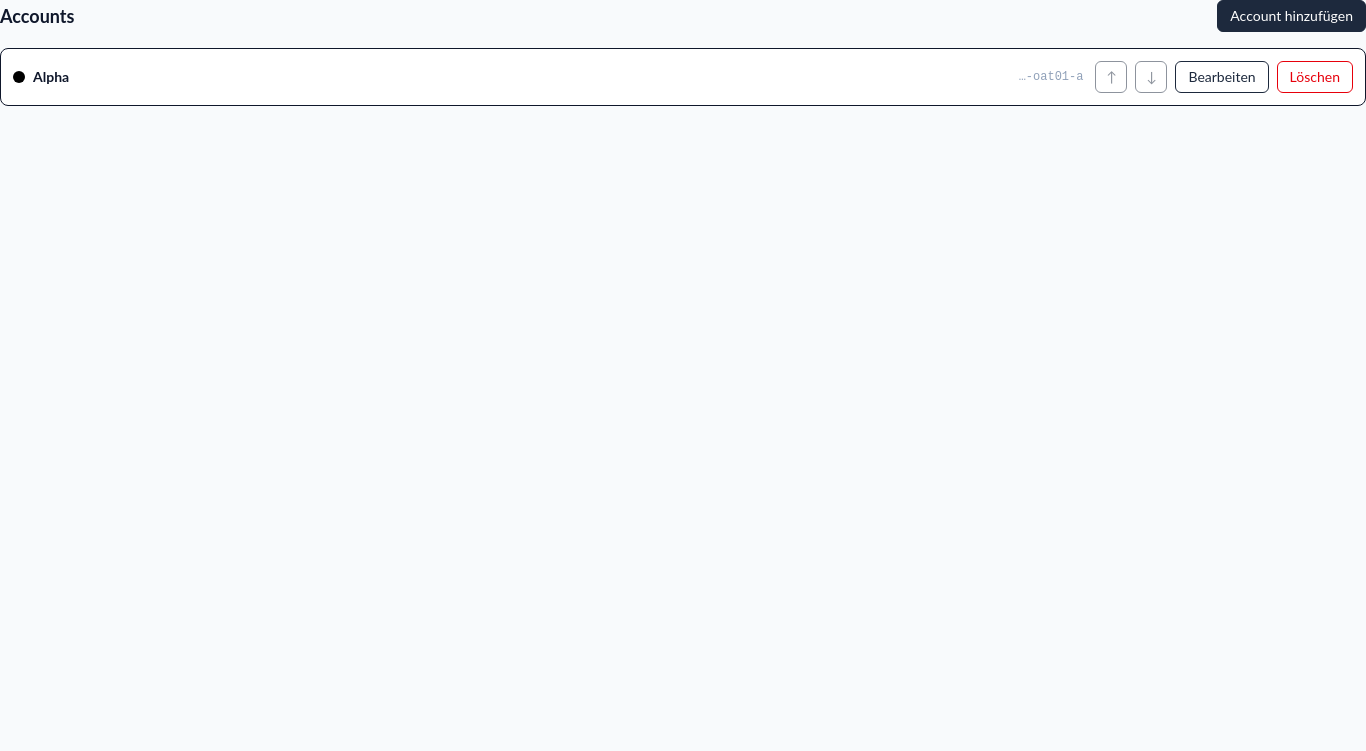
Test: AccountsView › opens an account for editing by its name and saves the change
Click the button with class "font-bold" showing "Alpha" at x=51, y=76, box [33,67,1011,87]
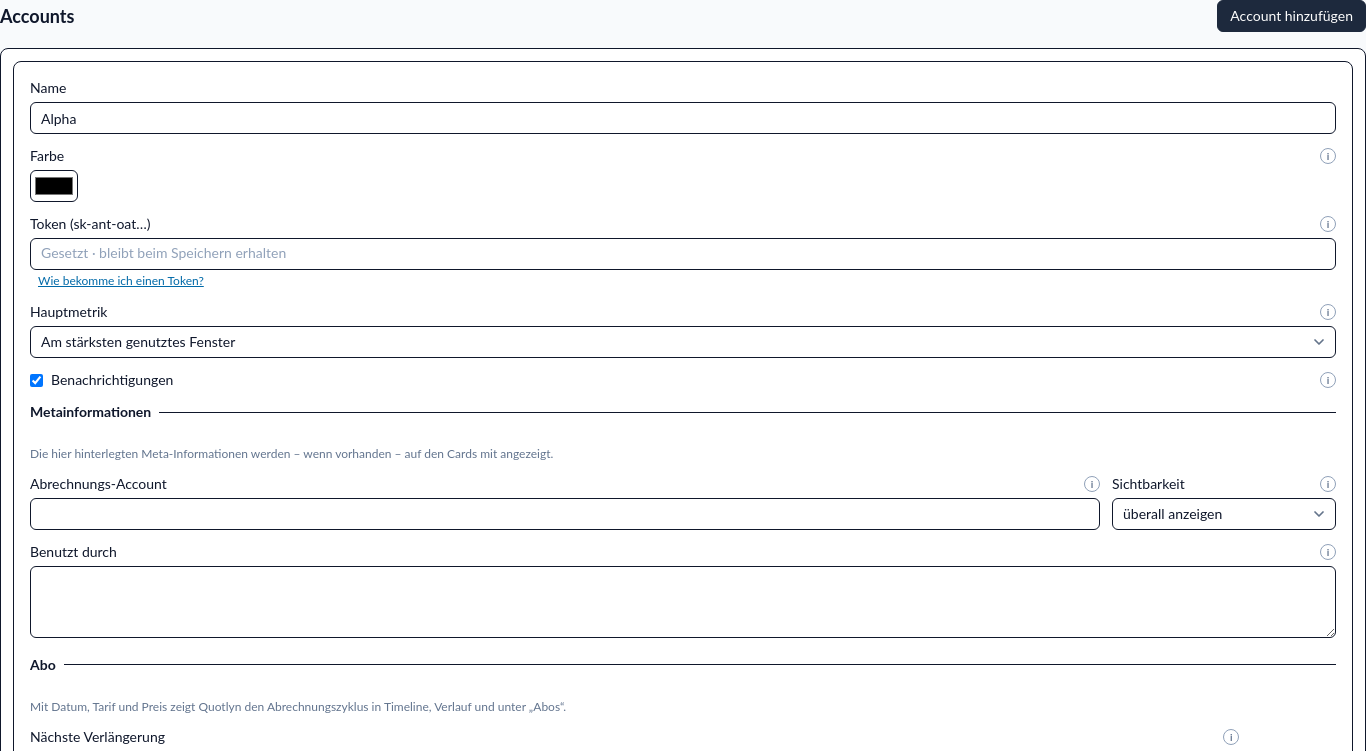
Replace the text in the field labelled "Name" with "Beta" at x=683, y=118, box [30,102,1336,134]
(page scrolled)
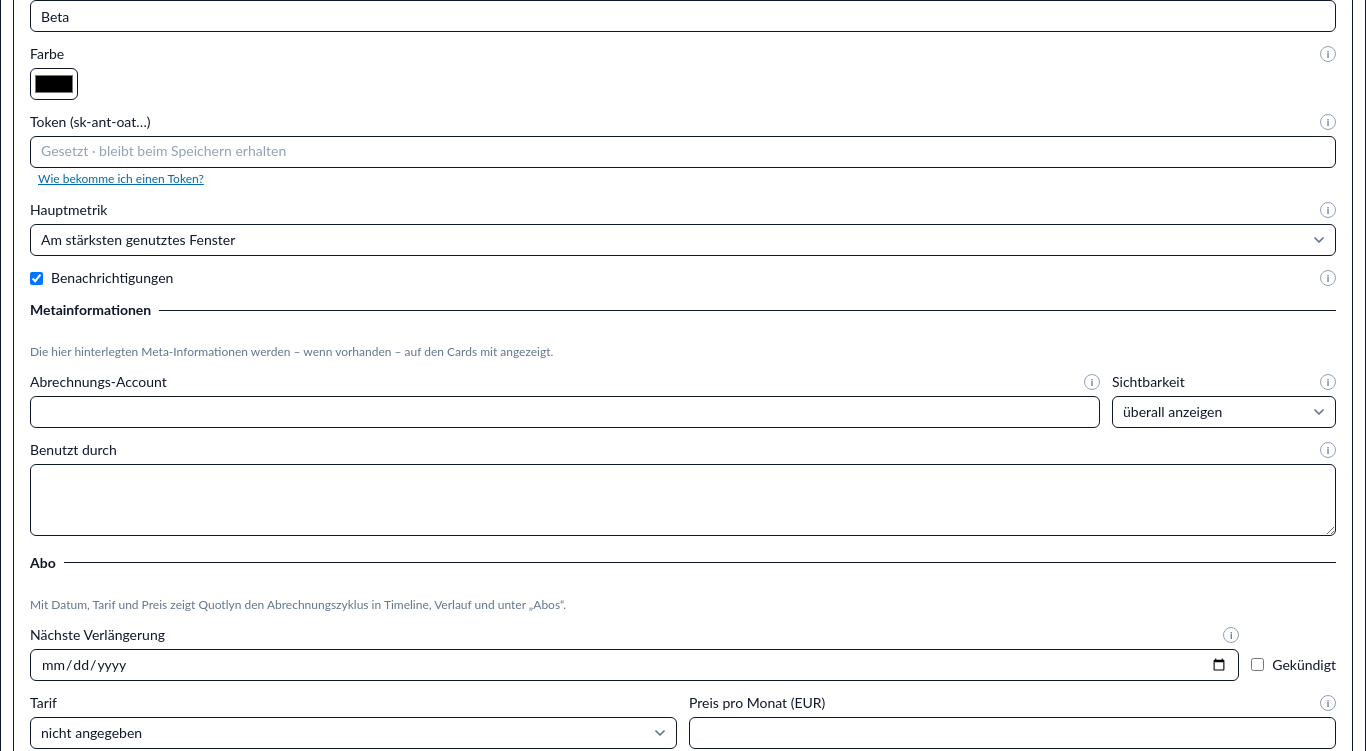
Submit the form
(page scrolled)
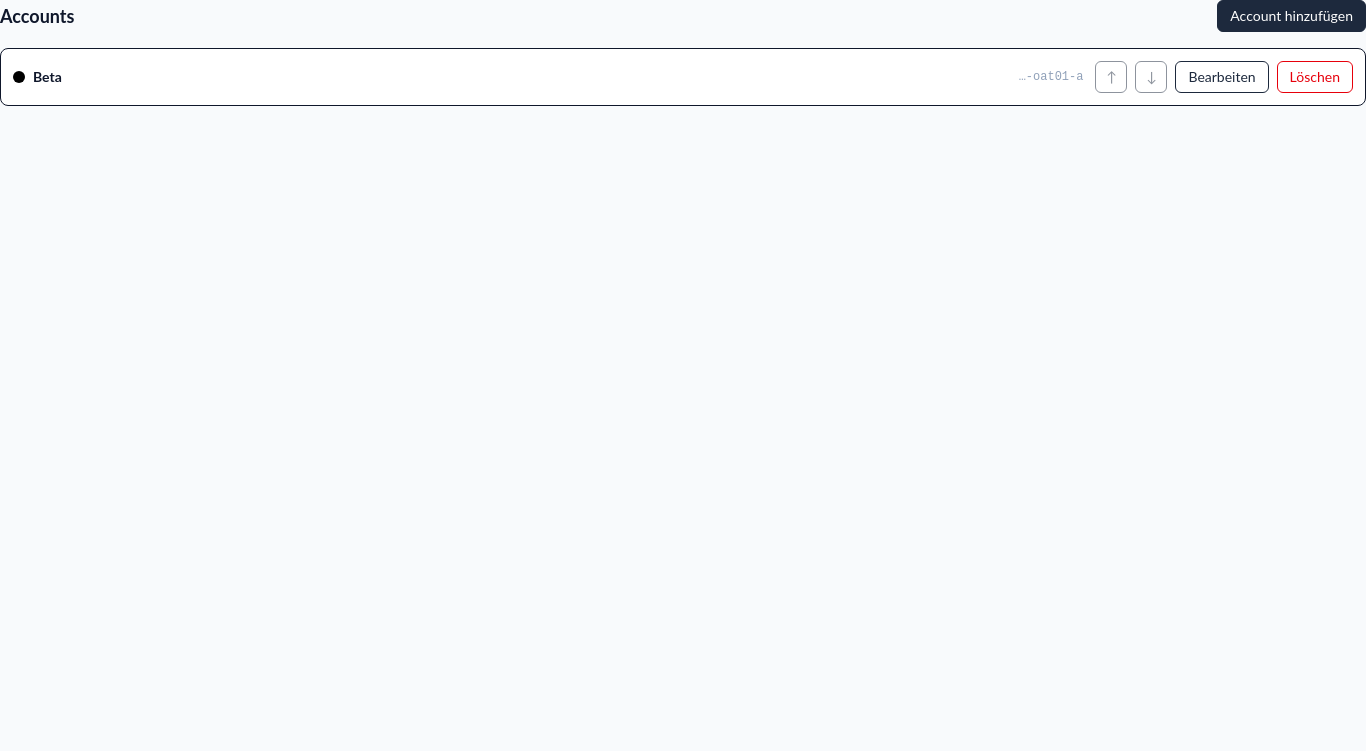
Expected: the button "Beta" is shown, [33,67,1011,87]
